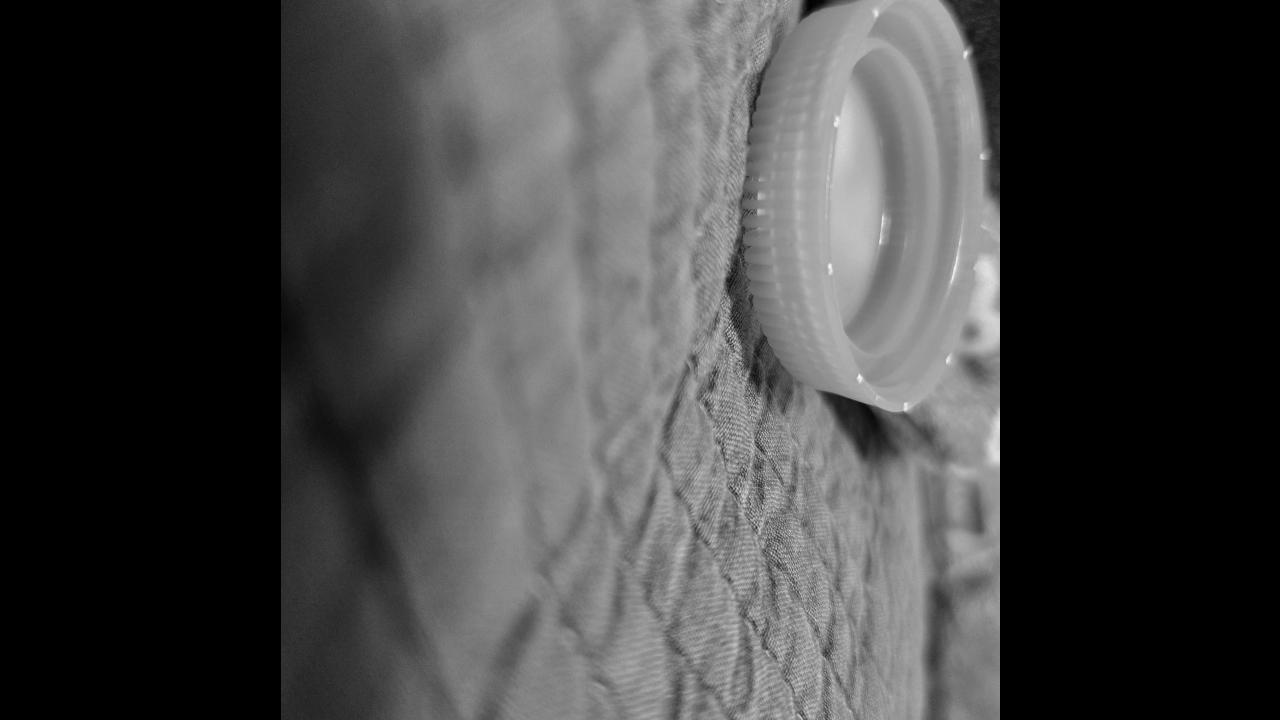bottle_cap: (734, 0, 1000, 417)
